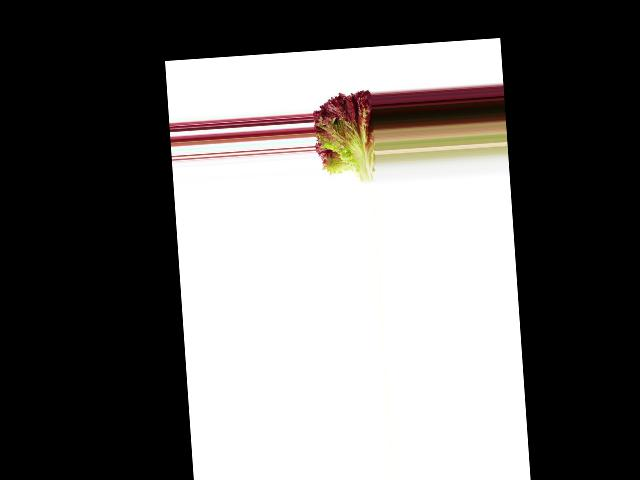lettuce: (312, 84, 377, 188)
